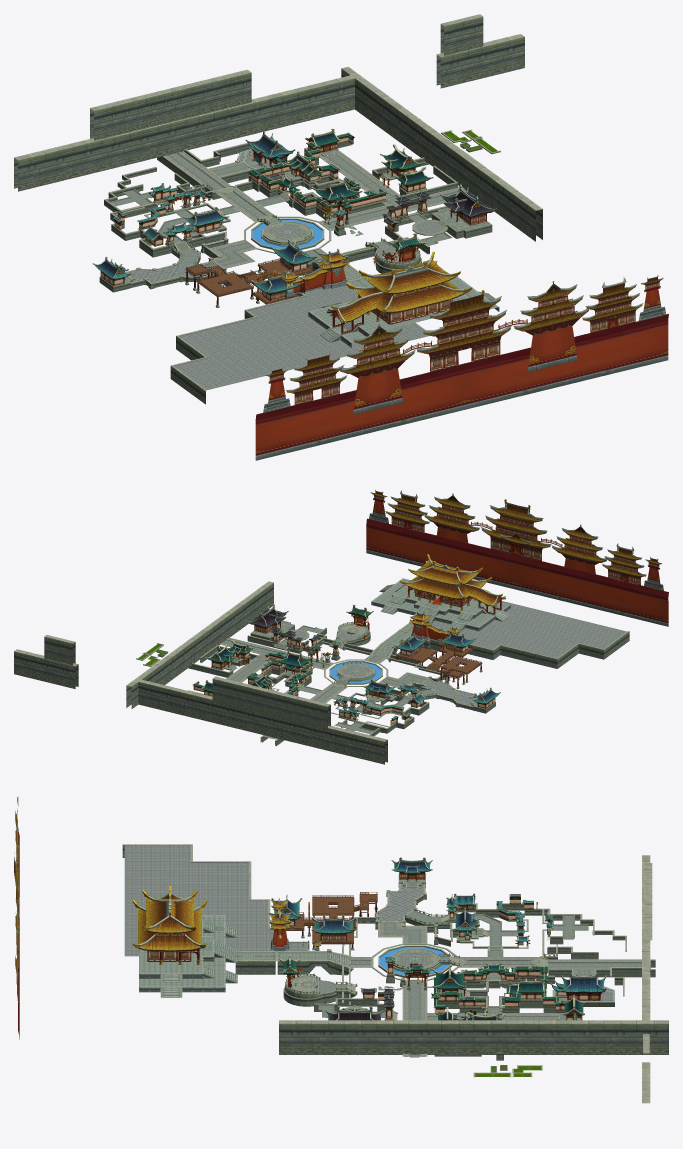
The model's file is feng_ming_001.FBX.
3 renders of one model, top to bottom at view 1: azimuth 30°, elevation 25°; view 2: azimuth 150°, elevation 25°; view 3: azimuth 270°, elevation 25°, orthographic. The views are drawn at different scales.
Parts seen in each view (by area): view 1: feng_ming_004_a, feng_ming_001_b, feng_ming_004_h, feng_ming_001_d, feng_ming_001_a, feng_ming_001_c, feng_ming_004_b, feng_ming_008_o, feng_ming_001_e, feng_ming_004_d, feng_ming_009_a, feng_ming_006_a (+14 smaller); view 2: feng_ming_004_a, feng_ming_004_h, feng_ming_001_b, feng_ming_001_d, feng_ming_001_c, feng_ming_004_d, feng_ming_004_b, feng_ming_001_a, feng_ming_001_e, feng_ming_008_o, feng_ming_006_a, feng_ming_009_a (+12 smaller); view 3: feng_ming_001_d, feng_ming_004_h, feng_ming_001_a, feng_ming_004_d, feng_ming_004_b, feng_ming_008_o, feng_ming_006_a, feng_ming_009_f, feng_ming_009_a, feng_ming_005_a, feng_ming_008_q, feng_ming_004_i (+16 smaller).
Boxes of the visible parts, bbox=[...] form: feng_ming_004_a: bbox=[255, 275, 668, 460]; feng_ming_001_b: bbox=[14, 75, 354, 191]; feng_ming_004_h: bbox=[170, 283, 430, 404]; feng_ming_001_d: bbox=[341, 66, 542, 241]; feng_ming_001_a: bbox=[157, 141, 473, 283]; feng_ming_001_c: bbox=[90, 69, 251, 140]; feng_ming_004_b: bbox=[346, 251, 472, 324]; feng_ming_008_o: bbox=[104, 167, 230, 257]; feng_ming_001_e: bbox=[436, 34, 524, 88]; feng_ming_004_d: bbox=[308, 276, 499, 347]; feng_ming_009_a: bbox=[248, 142, 458, 219]; feng_ming_006_a: bbox=[244, 216, 331, 253]; feng_ming_004_a: bbox=[366, 490, 668, 626]; feng_ming_004_h: bbox=[400, 601, 629, 668]; feng_ming_001_b: bbox=[138, 679, 387, 764]; feng_ming_001_d: bbox=[126, 581, 273, 708]; feng_ming_001_c: bbox=[212, 676, 330, 729]; feng_ming_004_d: bbox=[371, 578, 510, 631]; feng_ming_004_b: bbox=[399, 554, 491, 610]; feng_ming_001_a: bbox=[220, 637, 443, 746]; feng_ming_001_e: bbox=[14, 649, 78, 688]; feng_ming_008_o: bbox=[331, 692, 429, 736]; feng_ming_006_a: bbox=[324, 659, 388, 686]; feng_ming_009_a: bbox=[188, 645, 312, 696]; feng_ming_001_d: bbox=[279, 1020, 668, 1054]; feng_ming_004_h: bbox=[122, 844, 309, 956]; feng_ming_001_a: bbox=[342, 918, 655, 1057]; feng_ming_004_d: bbox=[139, 915, 237, 997]; feng_ming_004_b: bbox=[133, 889, 207, 964]; feng_ming_008_o: bbox=[440, 903, 626, 959]; feng_ming_006_a: bbox=[371, 943, 458, 980]; feng_ming_009_f: bbox=[436, 965, 577, 1020]; feng_ming_009_a: bbox=[434, 975, 582, 1060]; feng_ming_005_a: bbox=[283, 973, 337, 1006]; feng_ming_008_q: bbox=[349, 915, 452, 946]; feng_ming_004_i: bbox=[275, 951, 353, 975].
Size of the model in its own units: 24591 by 4778 by 23995.
Materials: 6 (6 with a texture image).
